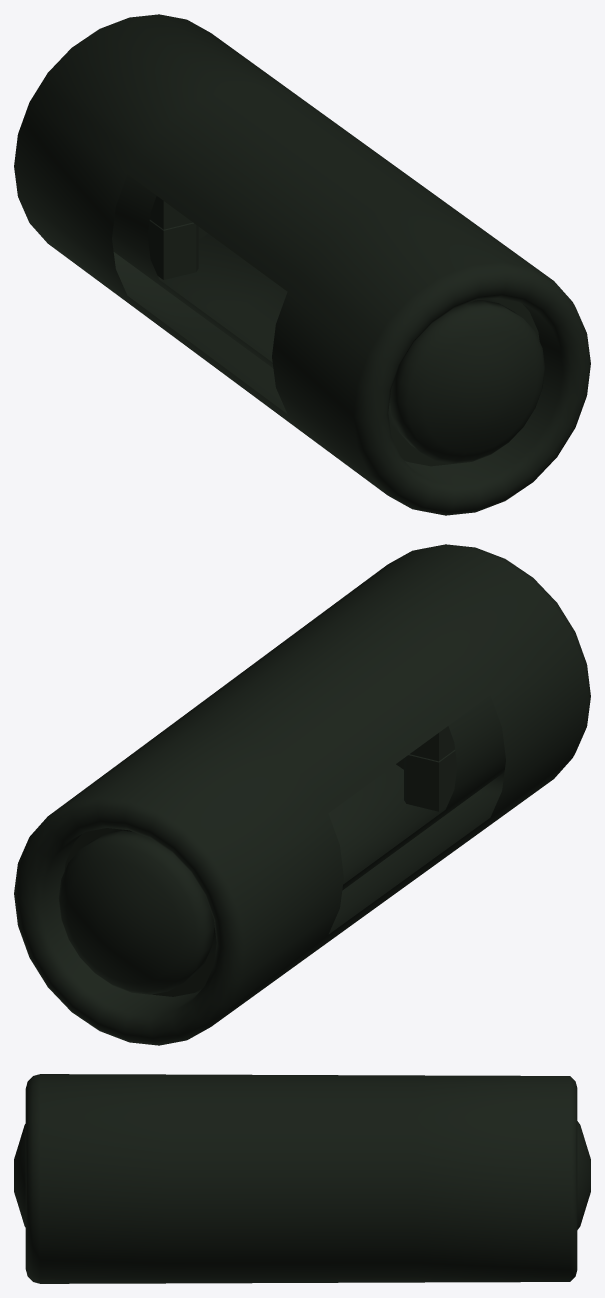
File: sewer.fbx
The picture shows the model from 3 angles, top to bottom: view 1: azimuth 30°, elevation 25°; view 2: azimuth 150°, elevation 25°; view 3: azimuth 270°, elevation 25°; orthographic projection. The views are drawn at different scales.
Visible parts, largest first — view 1: SewerTunnel; view 2: SewerTunnel; view 3: SewerTunnel.
Boxes of the visible parts, x1,y1,x2,y2 form: SewerTunnel: (14, 14, 590, 515); SewerTunnel: (14, 544, 590, 1045); SewerTunnel: (14, 1074, 590, 1283).
Bounding box in the file's own units: 641 × 641 × 1755.
